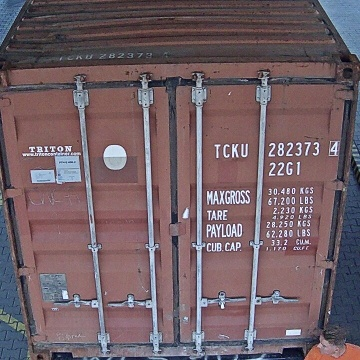serial_id: (214, 140, 338, 157)
